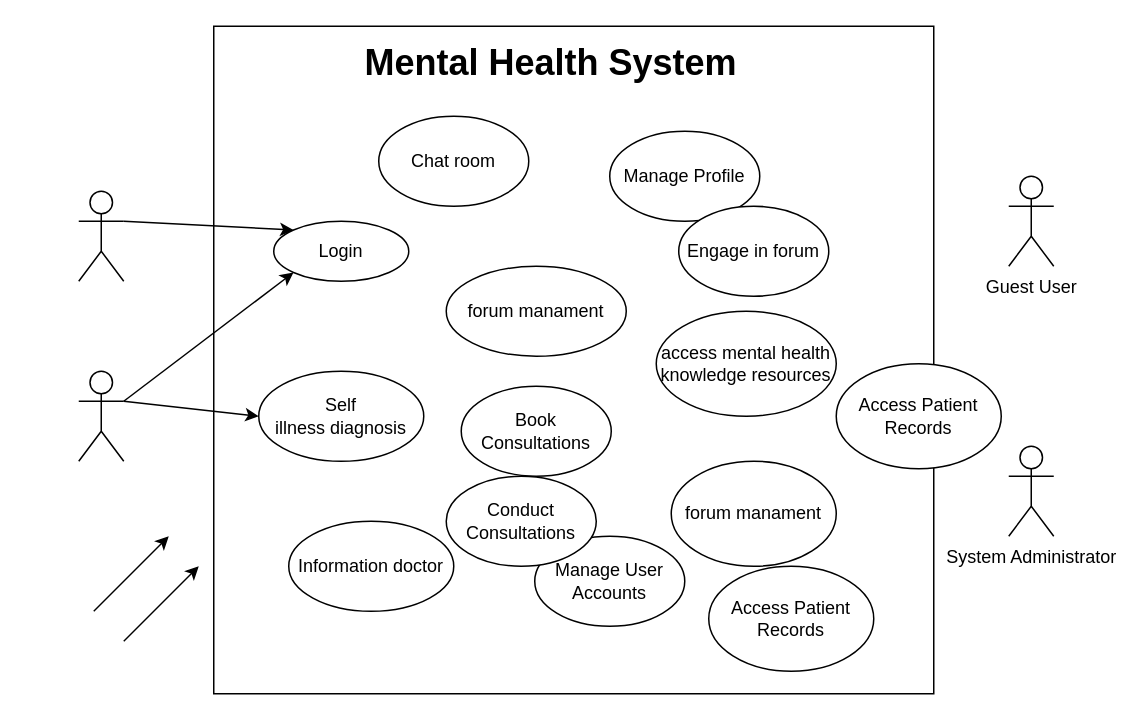
Image size: 1142x720. Some labels were removed from this diagram. The centre of each missing label's shape, as x and y in pixels:
"Patient" belongs at (x=100, y=415).
"Psychology Doctor" belongs at (x=100, y=235).
